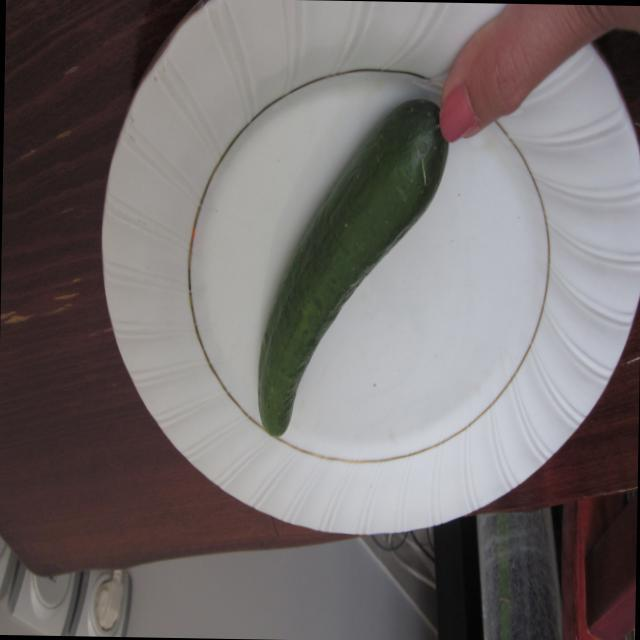Cucumber: (252, 100, 446, 450)
Finger: (435, 13, 531, 148)
